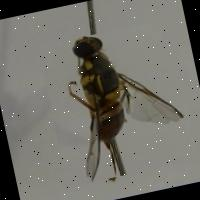Oriental-fruit-fly: (36, 18, 198, 187)
